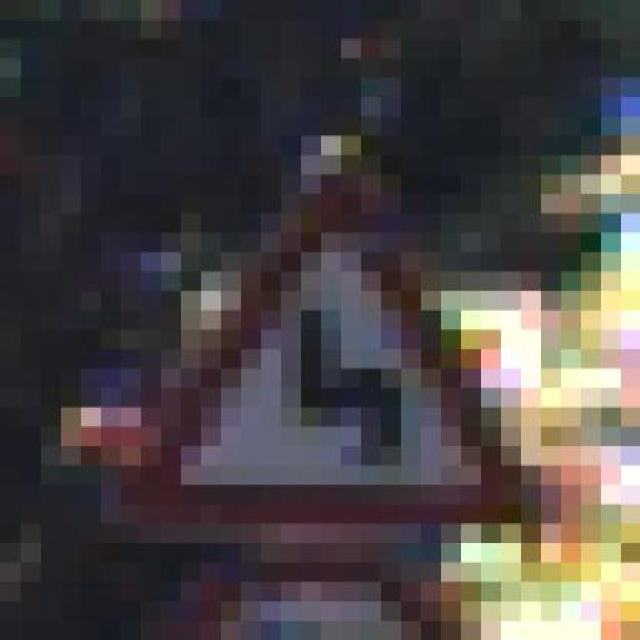Left Zig Zag Traffic: (100, 135, 560, 543)
